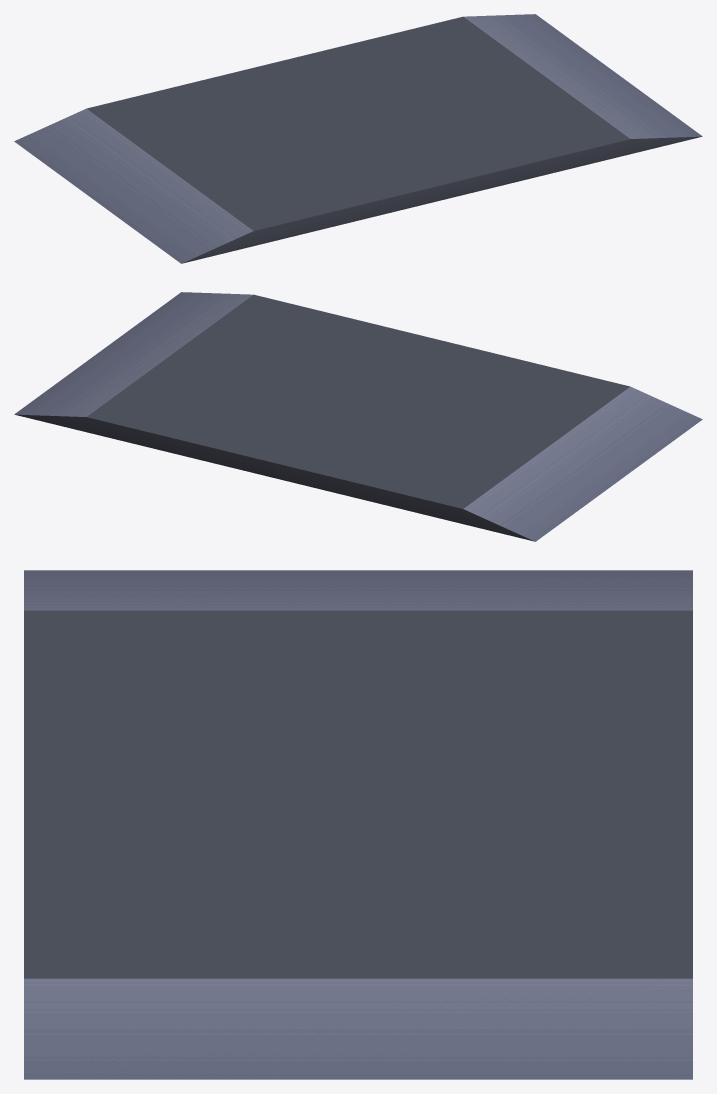
The model's file is driveway-short.glb.
The picture shows the model from 3 angles, top to bottom: view 1: azimuth 30°, elevation 25°; view 2: azimuth 150°, elevation 25°; view 3: azimuth 270°, elevation 25°; orthographic projection. The views are drawn at different scales.
Visible parts, largest first — view 1: driveway-short; view 2: driveway-short; view 3: driveway-short.
Boxes of the visible parts, x1,y1,x2,y2 form: driveway-short: (14, 14, 702, 263); driveway-short: (14, 292, 702, 541); driveway-short: (24, 570, 692, 1079).
Bounding box in the file's own units: 0.36 × 0.01 × 0.2.
Materials: 1 (1 with a texture image).
